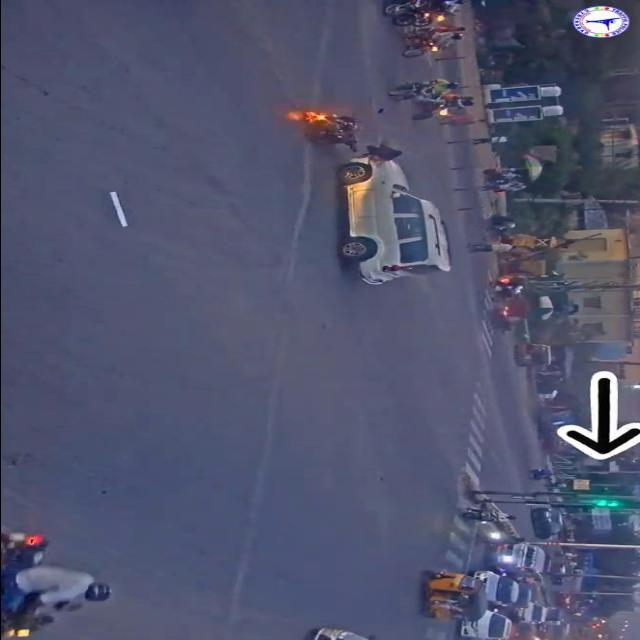accident: (283, 107, 461, 289)
non_accident: (414, 502, 550, 640), (373, 0, 475, 60), (383, 70, 483, 123)
